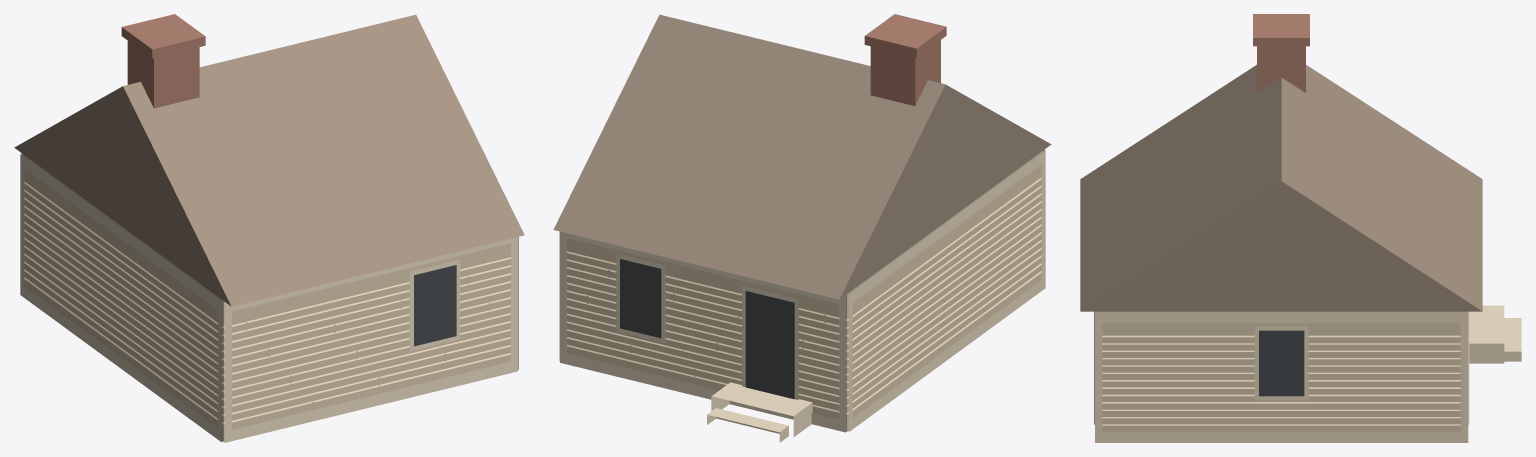
The model's file is recon_1835_blk_south_water_wells_d3_04__inferred_1835.glb.
3 views of the same model, side by side, from view 1: azimuth 30°, elevation 25°; view 2: azimuth 150°, elevation 25°; view 3: azimuth 270°, elevation 25° (orthographic). The views are drawn at different scales.
Parts seen in each view (by area): view 1: recon_1835_blk_south_water_wells_d3_04__inferred_1835; view 2: recon_1835_blk_south_water_wells_d3_04__inferred_1835; view 3: recon_1835_blk_south_water_wells_d3_04__inferred_1835.
Part boxes in pixels (box(x1,y1,x2,y2)): recon_1835_blk_south_water_wells_d3_04__inferred_1835: box(14, 14, 524, 442); recon_1835_blk_south_water_wells_d3_04__inferred_1835: box(553, 14, 1051, 442); recon_1835_blk_south_water_wells_d3_04__inferred_1835: box(1080, 14, 1521, 442).
Size of the model in its own units: 5.47 by 5.74 by 7.59.
